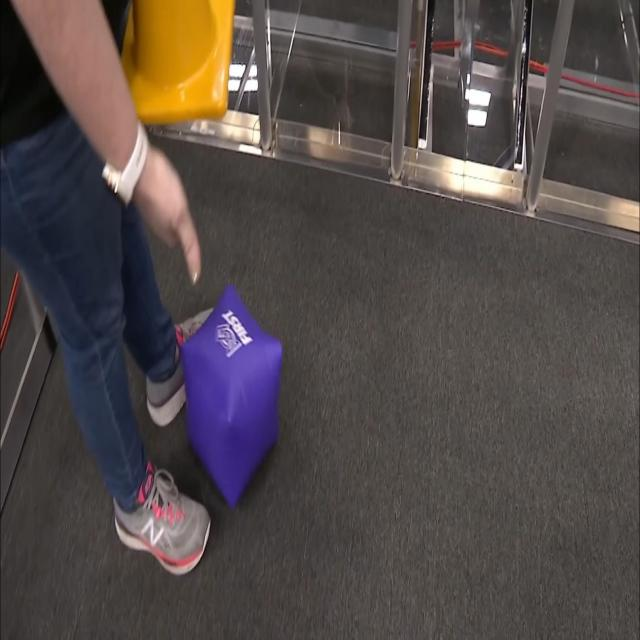frc_cone: (120, 0, 233, 116)
frc_cube: (178, 281, 288, 506)
